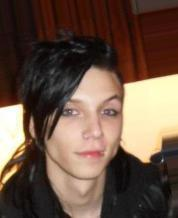face: (58, 99, 119, 158)
